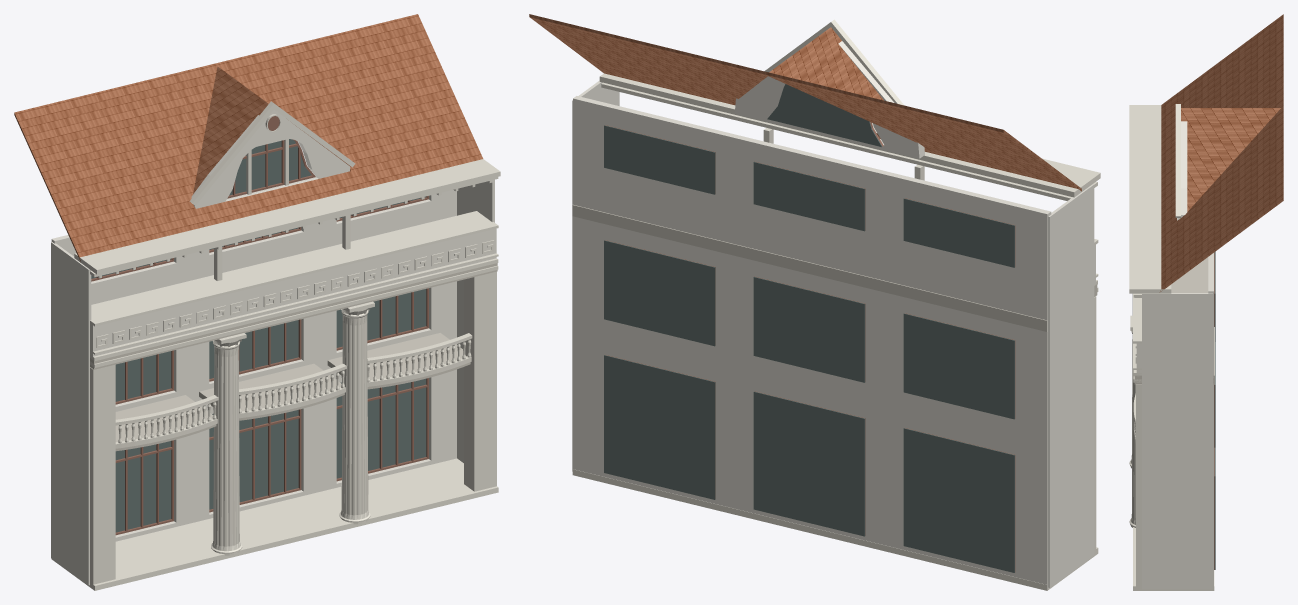
File: jingan-kangding-garden-central-portico-lod.glb
3 views of the same model, side by side, from view 1: azimuth 30°, elevation 25°; view 2: azimuth 150°, elevation 25°; view 3: azimuth 270°, elevation 25° (orthographic). The views are drawn at different scales.
Visible parts, largest first — view 1: 康定花园中楼南向三开间柱廊; view 2: 康定花园中楼南向三开间柱廊; view 3: 康定花园中楼南向三开间柱廊.
Part boxes in pixels (x1,y1,x2,y2): 康定花园中楼南向三开间柱廊: (14, 14, 500, 590); 康定花园中楼南向三开间柱廊: (529, 14, 1100, 590); 康定花园中楼南向三开间柱廊: (1129, 14, 1283, 590).
Size of the model in its own units: 16.95 by 16.81 by 5.97.
6 materials, 1 textured.
